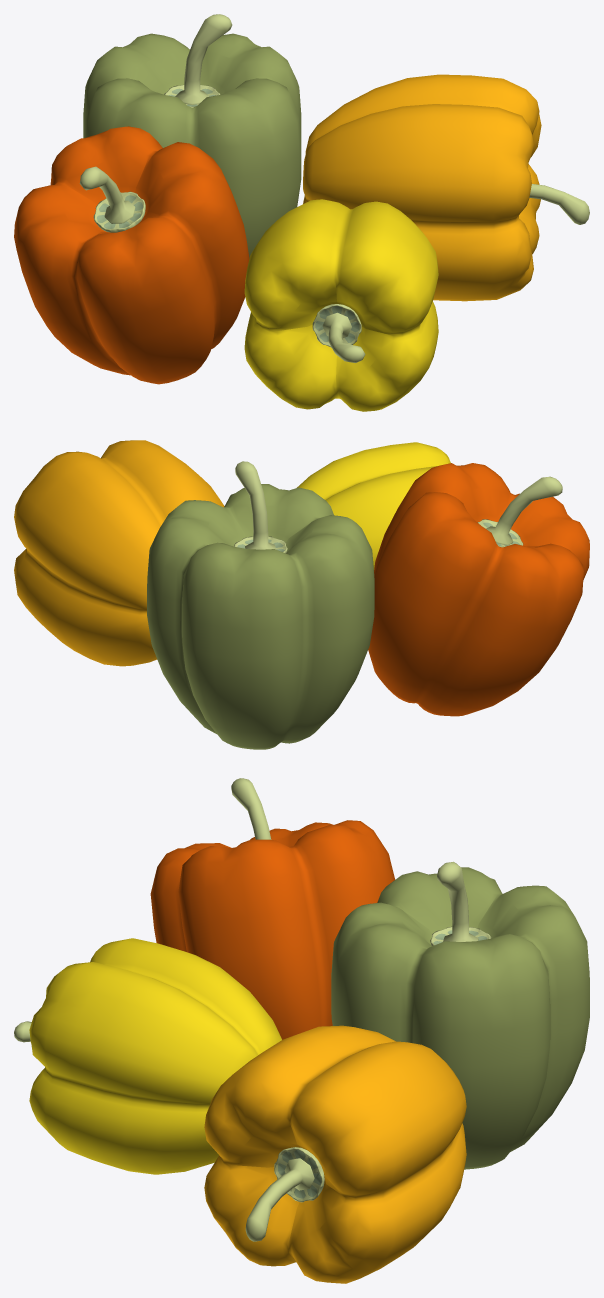
File: fff.gltf
The picture shows the model from 3 angles, top to bottom: view 1: azimuth 30°, elevation 25°; view 2: azimuth 150°, elevation 25°; view 3: azimuth 270°, elevation 25°; orthographic projection. The views are drawn at different scales.
Visible parts, largest first — view 1: Mesh116 Group_10_1 FMH_bell_pepper_orange1 Pepperoni1 Model, Mesh79 Group_3_3 FMH_bell_pepper_red1 Pepperoni1 Model, Mesh75 Group_12_3 FMH_bell_pepper_green1 Pepperoni1 Model, Mesh1 Group_11_1 FMH_bell_pepper_yellow1 Pepperoni1 Model, Mesh80 Group_3_4 FMH_bell_pepper_red1 Pepperoni1 Model, Mesh77 Group_3_1 FMH_bell_pepper_red1 Pepperoni1 Model, Mesh36 Group_11_2 FMH_bell_pepper_yellow1 Pepperoni1 Model, Mesh152 Group_10_3 FMH_bell_pepper_orange1 Pepperoni1 Model, Mesh117 Group_10_2 FMH_bell_pepper_orange1 Pepperoni1 Model, Mesh37 Group_11_3 FMH_bell_pepper_yellow1 Pepperoni1 Model, Mesh38 Group_11_4 FMH_bell_pepper_yellow1 Pepperoni1 Model, Mesh76 Group_12_4 FMH_bell_pepper_green1 Pepperoni1 Model (+8 smaller); view 2: Mesh39 Group_12_1 FMH_bell_pepper_green1 Pepperoni1 Model, Mesh78 Group_3_2 FMH_bell_pepper_red1 Pepperoni1 Model, Mesh77 Group_3_1 FMH_bell_pepper_red1 Pepperoni1 Model, Mesh117 Group_10_2 FMH_bell_pepper_orange1 Pepperoni1 Model, Mesh76 Group_12_4 FMH_bell_pepper_green1 Pepperoni1 Model, Mesh40 Group_12_2 FMH_bell_pepper_green1 Pepperoni1 Model, Mesh153 Group_10_4 FMH_bell_pepper_orange1 Pepperoni1 Model, Mesh116 Group_10_1 FMH_bell_pepper_orange1 Pepperoni1 Model, Mesh80 Group_3_4 FMH_bell_pepper_red1 Pepperoni1 Model, Mesh1 Group_11_1 FMH_bell_pepper_yellow1 Pepperoni1 Model, Mesh36 Group_11_2 FMH_bell_pepper_yellow1 Pepperoni1 Model, Mesh75 Group_12_3 FMH_bell_pepper_green1 Pepperoni1 Model (+3 smaller); view 3: Mesh40 Group_12_2 FMH_bell_pepper_green1 Pepperoni1 Model, Mesh1 Group_11_1 FMH_bell_pepper_yellow1 Pepperoni1 Model, Mesh117 Group_10_2 FMH_bell_pepper_orange1 Pepperoni1 Model, Mesh80 Group_3_4 FMH_bell_pepper_red1 Pepperoni1 Model, Mesh153 Group_10_4 FMH_bell_pepper_orange1 Pepperoni1 Model, Mesh37 Group_11_3 FMH_bell_pepper_yellow1 Pepperoni1 Model, Mesh116 Group_10_1 FMH_bell_pepper_orange1 Pepperoni1 Model, Mesh39 Group_12_1 FMH_bell_pepper_green1 Pepperoni1 Model, Mesh75 Group_12_3 FMH_bell_pepper_green1 Pepperoni1 Model, Mesh78 Group_3_2 FMH_bell_pepper_red1 Pepperoni1 Model, Mesh36 Group_11_2 FMH_bell_pepper_yellow1 Pepperoni1 Model, Mesh152 Group_10_3 FMH_bell_pepper_orange1 Pepperoni1 Model (+5 smaller).
Part boxes in pixels (bbox=[...]): Mesh116 Group_10_1 FMH_bell_pepper_orange1 Pepperoni1 Model: bbox=[303, 104, 533, 226]; Mesh79 Group_3_3 FMH_bell_pepper_red1 Pepperoni1 Model: bbox=[73, 215, 215, 384]; Mesh75 Group_12_3 FMH_bell_pepper_green1 Pepperoni1 Model: bbox=[192, 78, 301, 258]; Mesh1 Group_11_1 FMH_bell_pepper_yellow1 Pepperoni1 Model: bbox=[335, 201, 438, 335]; Mesh80 Group_3_4 FMH_bell_pepper_red1 Pepperoni1 Model: bbox=[135, 142, 249, 349]; Mesh77 Group_3_1 FMH_bell_pepper_red1 Pepperoni1 Model: bbox=[14, 183, 130, 375]; Mesh36 Group_11_2 FMH_bell_pepper_yellow1 Pepperoni1 Model: bbox=[244, 199, 350, 330]; Mesh152 Group_10_3 FMH_bell_pepper_orange1 Pepperoni1 Model: bbox=[303, 195, 533, 301]; Mesh117 Group_10_2 FMH_bell_pepper_orange1 Pepperoni1 Model: bbox=[305, 74, 541, 156]; Mesh37 Group_11_3 FMH_bell_pepper_yellow1 Pepperoni1 Model: bbox=[335, 301, 438, 411]; Mesh38 Group_11_4 FMH_bell_pepper_yellow1 Pepperoni1 Model: bbox=[244, 312, 337, 409]; Mesh76 Group_12_4 FMH_bell_pepper_green1 Pepperoni1 Model: bbox=[84, 78, 192, 147]; Mesh39 Group_12_1 FMH_bell_pepper_green1 Pepperoni1 Model: bbox=[181, 542, 306, 749]; Mesh78 Group_3_2 FMH_bell_pepper_red1 Pepperoni1 Model: bbox=[368, 492, 499, 703]; Mesh77 Group_3_1 FMH_bell_pepper_red1 Pepperoni1 Model: bbox=[417, 543, 583, 716]; Mesh117 Group_10_2 FMH_bell_pepper_orange1 Pepperoni1 Model: bbox=[14, 451, 162, 611]; Mesh76 Group_12_4 FMH_bell_pepper_green1 Pepperoni1 Model: bbox=[281, 515, 374, 743]; Mesh40 Group_12_2 FMH_bell_pepper_green1 Pepperoni1 Model: bbox=[147, 500, 245, 733]; Mesh153 Group_10_4 FMH_bell_pepper_orange1 Pepperoni1 Model: bbox=[14, 548, 157, 666]; Mesh116 Group_10_1 FMH_bell_pepper_orange1 Pepperoni1 Model: bbox=[101, 440, 224, 522]; Mesh80 Group_3_4 FMH_bell_pepper_red1 Pepperoni1 Model: bbox=[374, 463, 512, 571]; Mesh1 Group_11_1 FMH_bell_pepper_yellow1 Pepperoni1 Model: bbox=[297, 442, 450, 499]; Mesh36 Group_11_2 FMH_bell_pepper_yellow1 Pepperoni1 Model: bbox=[324, 466, 437, 569]; Mesh75 Group_12_3 FMH_bell_pepper_green1 Pepperoni1 Model: bbox=[224, 484, 333, 542]; Mesh40 Group_12_2 FMH_bell_pepper_green1 Pepperoni1 Model: bbox=[408, 934, 550, 1169]; Mesh1 Group_11_1 FMH_bell_pepper_yellow1 Pepperoni1 Model: bbox=[29, 962, 258, 1107]; Mesh117 Group_10_2 FMH_bell_pepper_orange1 Pepperoni1 Model: bbox=[288, 1041, 466, 1199]; Mesh80 Group_3_4 FMH_bell_pepper_red1 Pepperoni1 Model: bbox=[178, 839, 324, 1039]; Mesh153 Group_10_4 FMH_bell_pepper_orange1 Pepperoni1 Model: bbox=[288, 1123, 466, 1283]; Mesh37 Group_11_3 FMH_bell_pepper_yellow1 Pepperoni1 Model: bbox=[29, 1067, 218, 1174]; Mesh116 Group_10_1 FMH_bell_pepper_orange1 Pepperoni1 Model: bbox=[204, 1025, 395, 1167]; Mesh39 Group_12_1 FMH_bell_pepper_green1 Pepperoni1 Model: bbox=[477, 885, 589, 1151]; Mesh75 Group_12_3 FMH_bell_pepper_green1 Pepperoni1 Model: bbox=[331, 902, 432, 1042]; Mesh78 Group_3_2 FMH_bell_pepper_red1 Pepperoni1 Model: bbox=[291, 820, 395, 1026]; Mesh36 Group_11_2 FMH_bell_pepper_yellow1 Pepperoni1 Model: bbox=[90, 938, 281, 1054]; Mesh152 Group_10_3 FMH_bell_pepper_orange1 Pepperoni1 Model: bbox=[204, 1155, 299, 1266].
Bounding box in the file's own units: 6.72 × 3.18 × 5.58.
